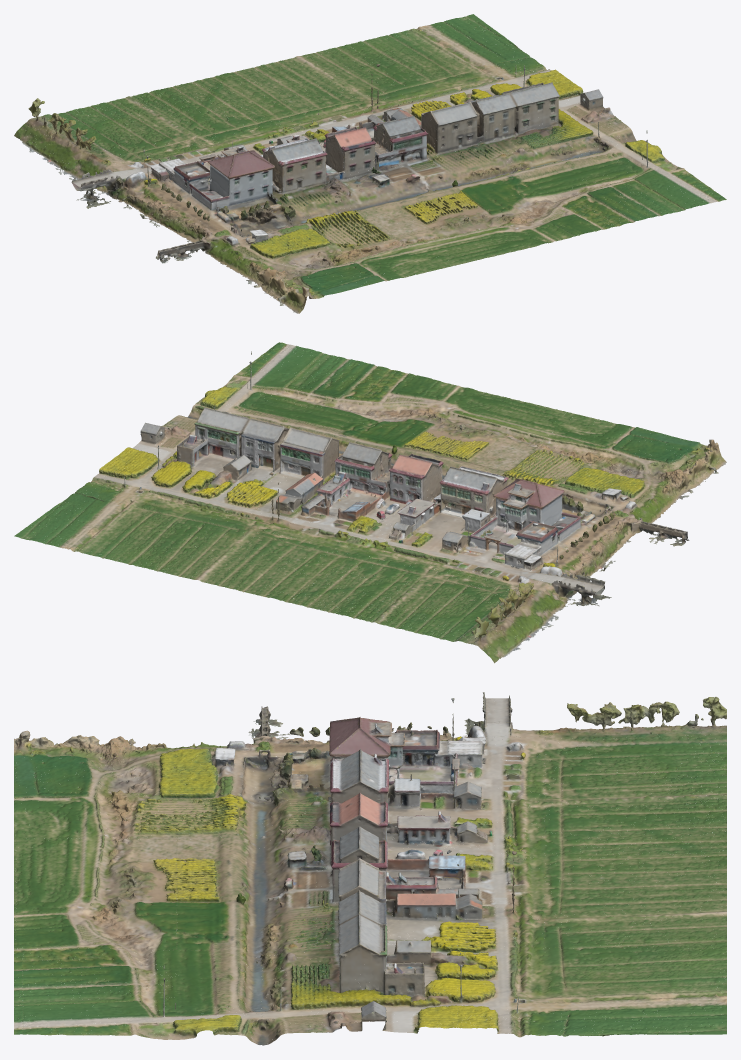
Rendered from farm-canal.glb.
3 views of the same model, one above another, from view 1: azimuth 30°, elevation 25°; view 2: azimuth 150°, elevation 25°; view 3: azimuth 270°, elevation 25° (orthographic). The views are drawn at different scales.
Parts seen in each view (by area): view 1: Object_3, Object_11, Object_8, Object_9, Object_6, Object_7, Object_2, Object_5, Object_4, Object_10, Object_12; view 2: Object_2, Object_8, Object_5, Object_3, Object_6, Object_7, Object_9, Object_11, Object_10, Object_4, Object_12; view 3: Object_11, Object_8, Object_3, Object_6, Object_2, Object_9, Object_7, Object_10, Object_5, Object_4, Object_12.
Boxes of the visible parts, x1,y1,x2,y2 form: Object_3: (206, 64, 485, 298); Object_11: (103, 78, 717, 227); Object_8: (20, 57, 684, 268); Object_9: (49, 46, 720, 311); Object_6: (77, 17, 567, 187); Object_7: (20, 78, 493, 236); Object_2: (14, 14, 726, 313); Object_5: (120, 134, 337, 223); Object_4: (113, 129, 423, 296); Object_10: (383, 82, 690, 227); Object_12: (28, 87, 273, 155); Object_2: (14, 342, 726, 663); Object_8: (169, 374, 617, 658); Object_5: (368, 466, 611, 589); Object_3: (217, 415, 708, 552); Object_6: (21, 348, 563, 632); Object_7: (271, 442, 622, 658); Object_9: (117, 344, 725, 599); Object_11: (193, 347, 518, 612); Object_10: (88, 351, 406, 489); Object_4: (375, 419, 709, 590); Object_12: (323, 477, 487, 626); Object_11: (22, 741, 726, 1039); Object_8: (15, 702, 725, 1035); Object_3: (15, 742, 545, 949); Object_6: (14, 717, 726, 1036); Object_2: (14, 692, 726, 1045); Object_9: (14, 695, 726, 1031); Object_7: (316, 694, 726, 1032); Object_10: (22, 861, 458, 1043); Object_5: (313, 698, 545, 856); Object_4: (15, 735, 545, 851); Object_12: (14, 737, 726, 938).
Size of the model in its own units: 268 by 30.48 by 246.
Materials: 1 (1 with a texture image).
